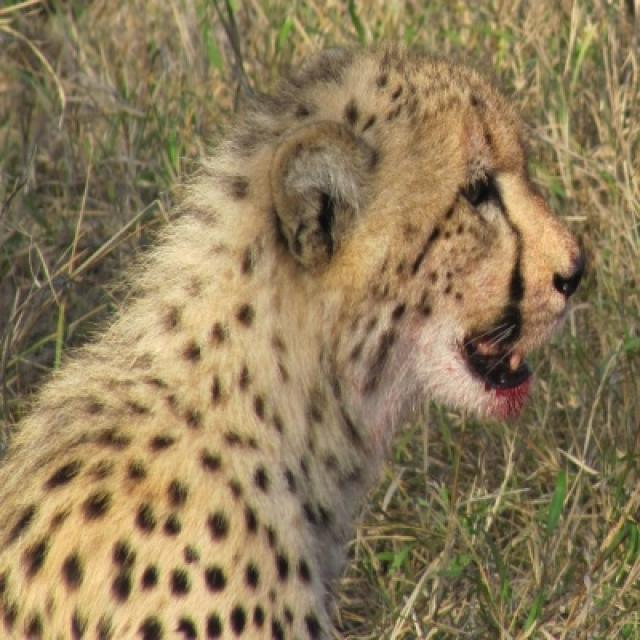Cheetah: (0, 45, 590, 638)
